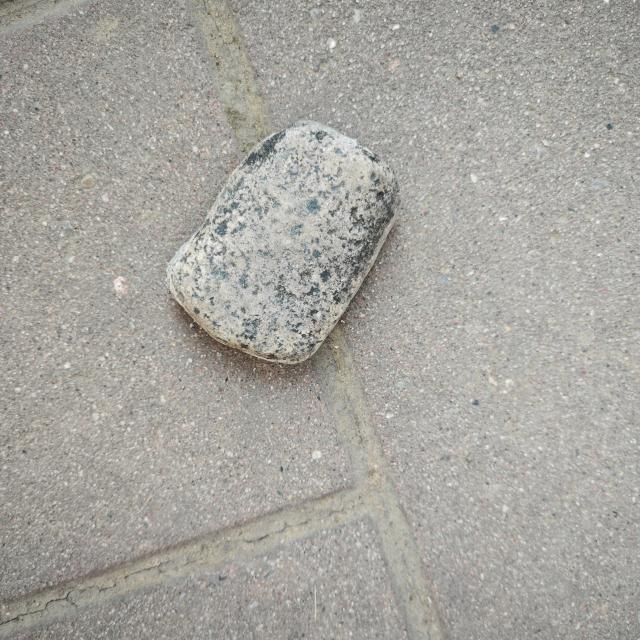-Other waste - pebble-: (169, 125, 403, 366)
